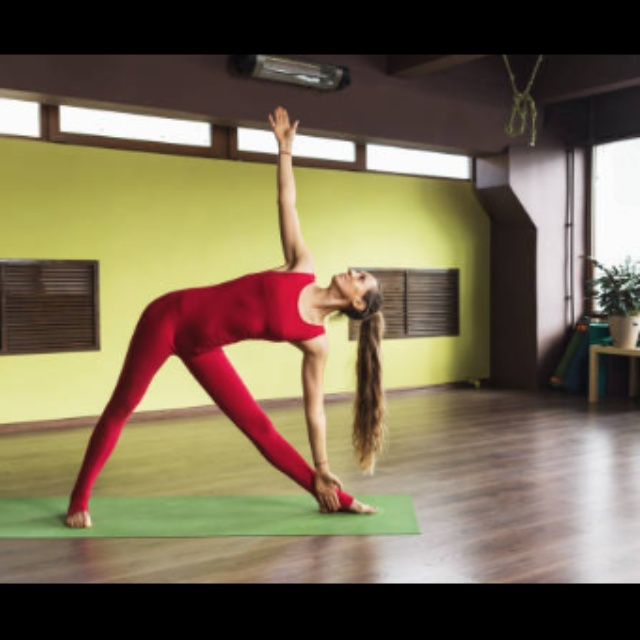Triangle_Pose: (57, 103, 392, 524)
